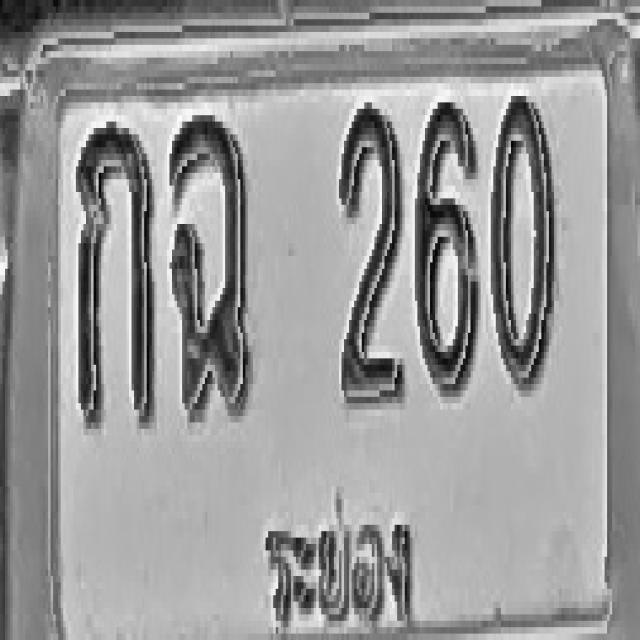0: (491, 90, 556, 390)
10GorGai: (76, 122, 154, 428)
18ChorChing: (169, 112, 253, 419)
2: (339, 100, 405, 406)
6: (415, 96, 478, 397)
Rayong: (250, 480, 415, 640)
